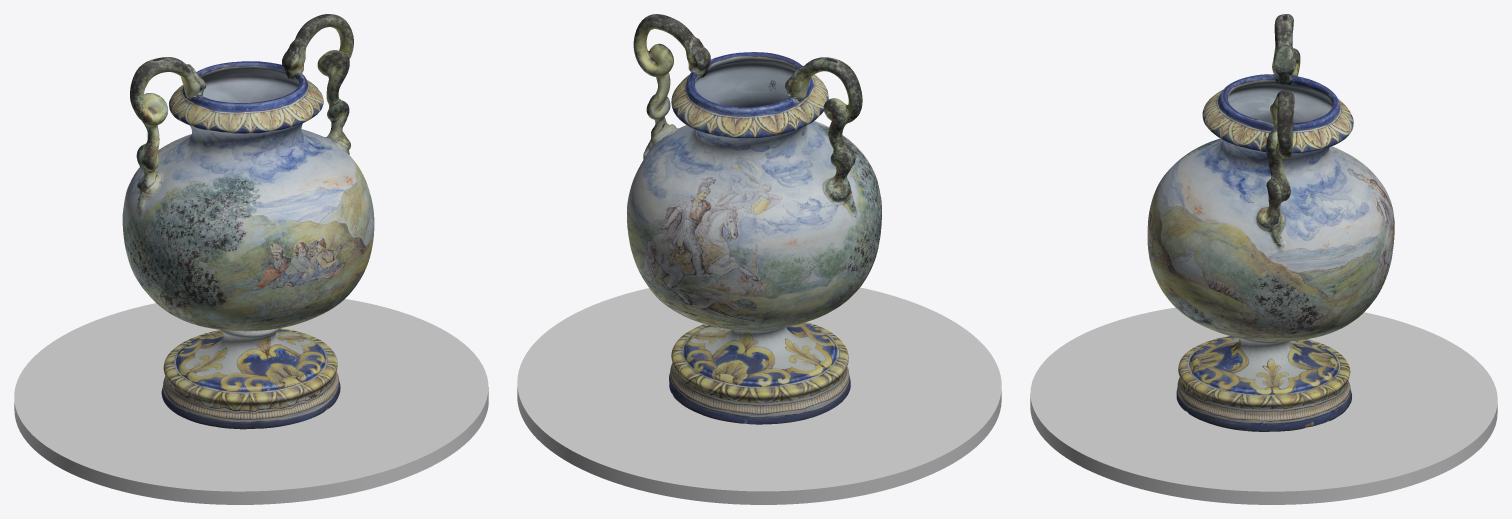
Rendered from decor-vase-01.glb.
The picture shows the model from 3 angles, left to right: view 1: azimuth 30°, elevation 25°; view 2: azimuth 150°, elevation 25°; view 3: azimuth 270°, elevation 25°; orthographic projection. The views are drawn at different scales.
Visible parts, largest first — view 1: Object_2, Object_3; view 2: Object_2, Object_3; view 3: Object_2, Object_3.
Boxes of the visible parts, box(x1,y1,x2,y2) form: Object_2: box(122, 14, 374, 429); Object_3: box(14, 299, 488, 504); Object_2: box(627, 14, 881, 424); Object_3: box(517, 287, 1001, 504); Object_2: box(1147, 14, 1394, 431); Object_3: box(1030, 307, 1497, 504).
Bounding box in the file's own units: 33.96 × 28.92 × 33.96.
2 materials, 1 textured.
